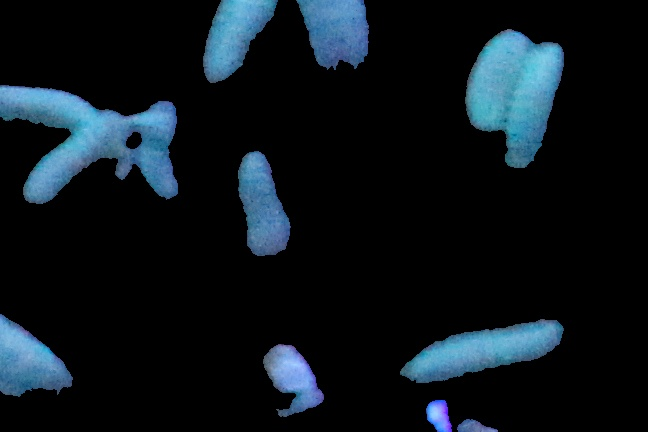larvae: (401, 317, 560, 386), (501, 43, 572, 169), (25, 111, 121, 203), (1, 309, 76, 402), (465, 28, 531, 132), (201, 1, 278, 88), (237, 149, 292, 257), (295, 1, 375, 73), (1, 82, 97, 128), (139, 103, 179, 201)
